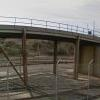Bridge: (4, 9, 96, 53)
